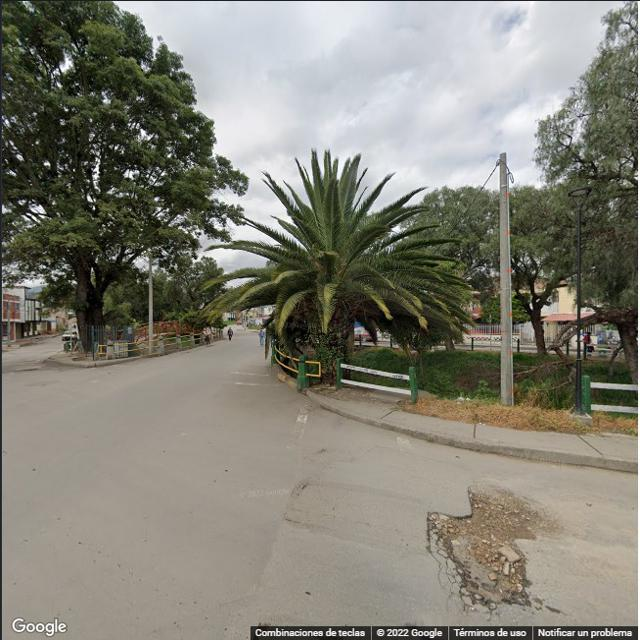D10: (421, 505, 448, 595)
D40: (445, 515, 533, 604)
